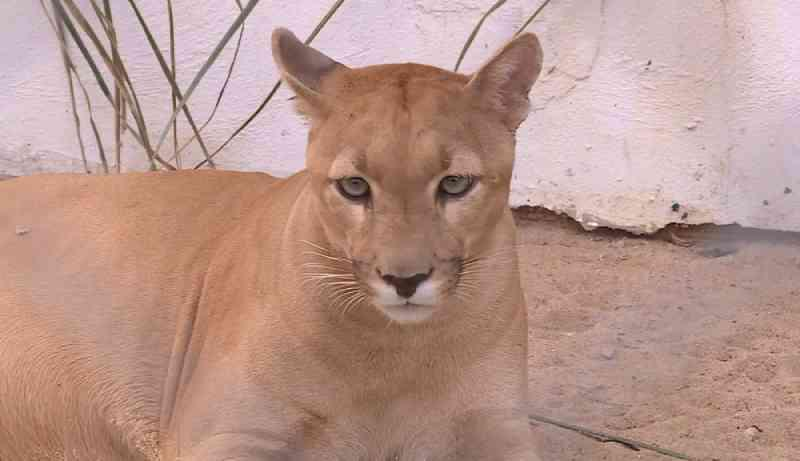OncaParda: (6, 26, 564, 451)
